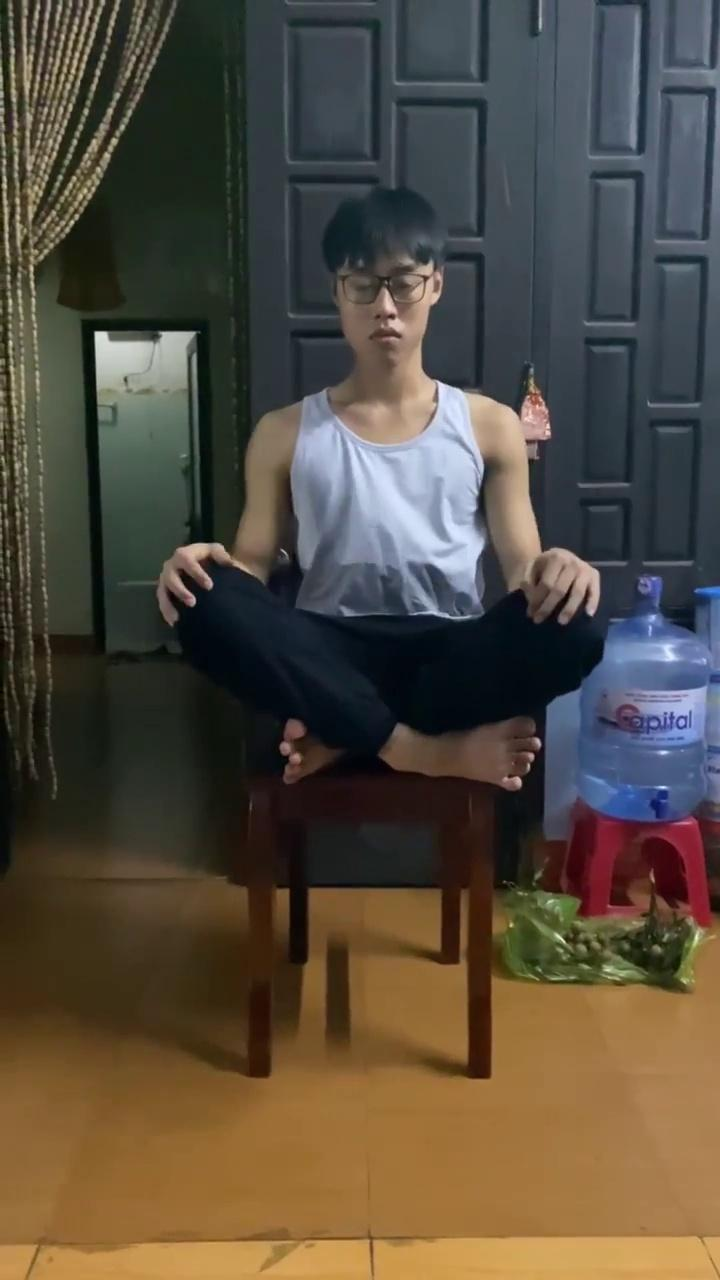BadPosture: (177, 563, 602, 789)
